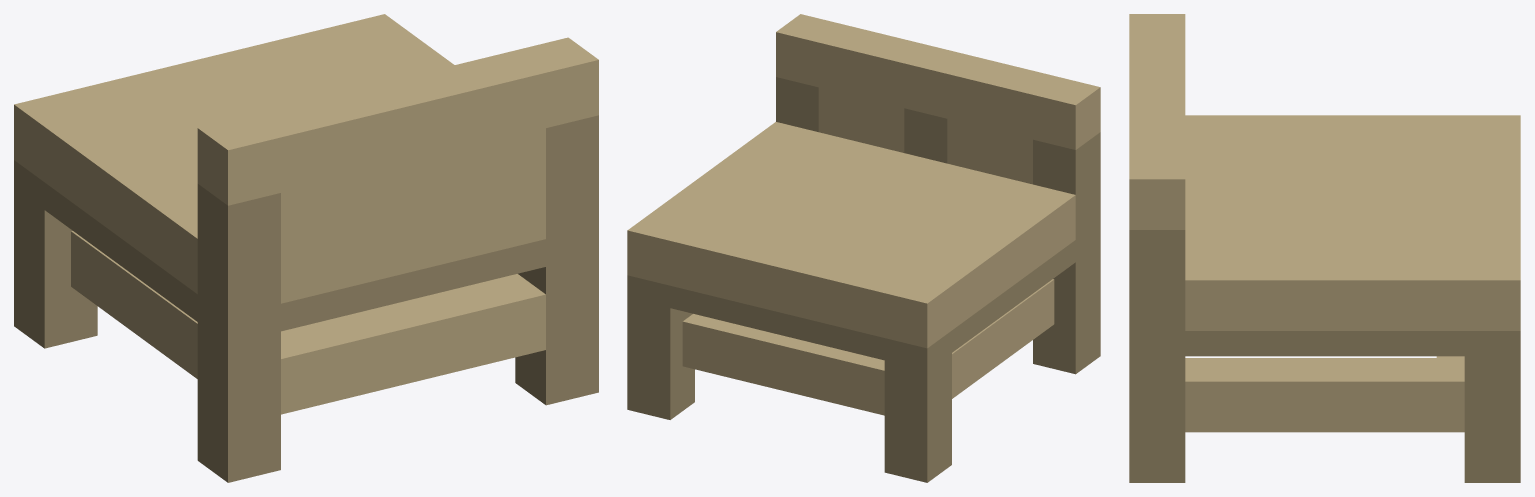
File: silla_pino_01.glb
3 views of the same model, side by side, from view 1: azimuth 30°, elevation 25°; view 2: azimuth 150°, elevation 25°; view 3: azimuth 270°, elevation 25° (orthographic). The views are drawn at different scales.
Parts seen in each view (by area): view 1: silla_pino; view 2: silla_pino; view 3: silla_pino.
Boxes of the visible parts, x1=… form: silla_pino: x1=14, y1=14, x2=598, y2=482; silla_pino: x1=627, y1=14, x2=1100, y2=482; silla_pino: x1=1129, y1=14, x2=1520, y2=482.
Size of the model in its own units: 1 by 0.8571 by 1.
